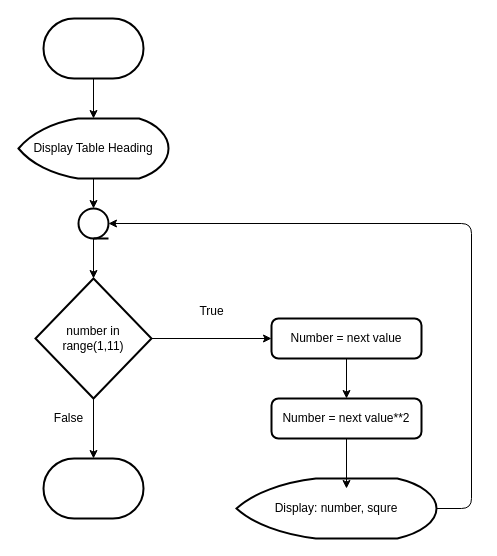
Some shapes in this 497 by 556 pixel diagram are drawn without their labels. Each missing label, with the centre of its shape:
"End" goes at (93,488).
"Start" goes at (93,48).
